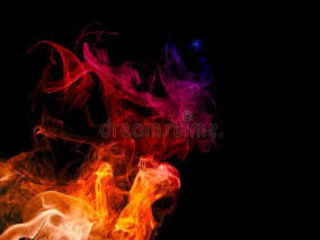fire: (21, 37, 206, 233)
